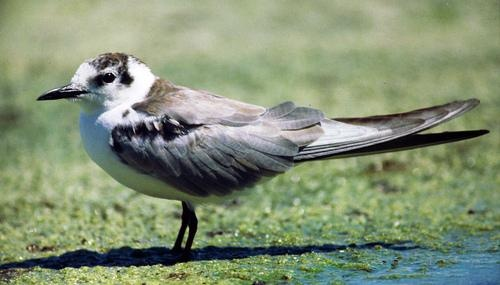bird: (33, 50, 490, 250)
